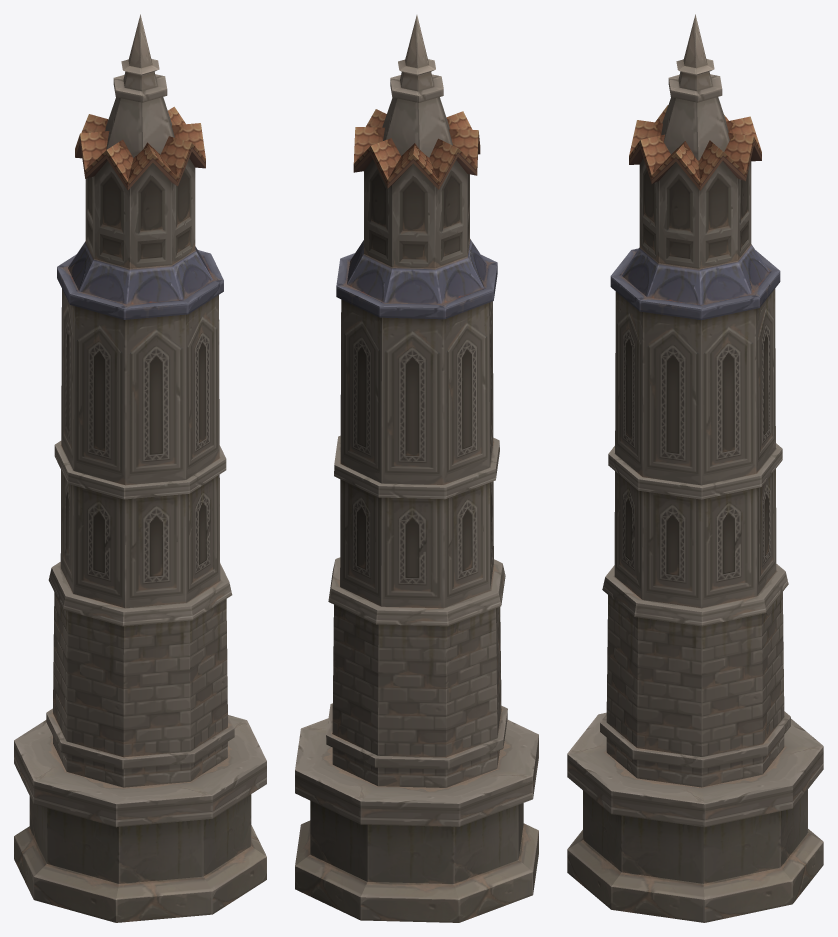
The model's file is sc_dungeon_moshenta_building_004.FBX.
3 views of the same model, side by side, from view 1: azimuth 30°, elevation 25°; view 2: azimuth 150°, elevation 25°; view 3: azimuth 270°, elevation 25° (orthographic).
Visible parts, largest first — view 1: sc_dungeon_moshenta_building_004; view 2: sc_dungeon_moshenta_building_004; view 3: sc_dungeon_moshenta_building_004.
Boxes of the visible parts, x1,y1,x2,y2 form: sc_dungeon_moshenta_building_004: (14, 14, 266, 922); sc_dungeon_moshenta_building_004: (295, 15, 538, 922); sc_dungeon_moshenta_building_004: (567, 14, 823, 922).
Size of the model in its own units: 9.28 by 9.28 by 34.11.
Materials: 1 (1 with a texture image).
